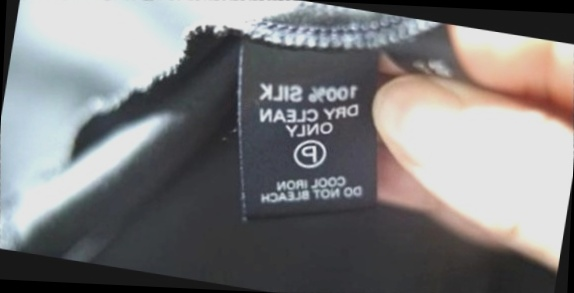dry_clean_any_solvent_except_trichloroethylene: (287, 133, 331, 174)
